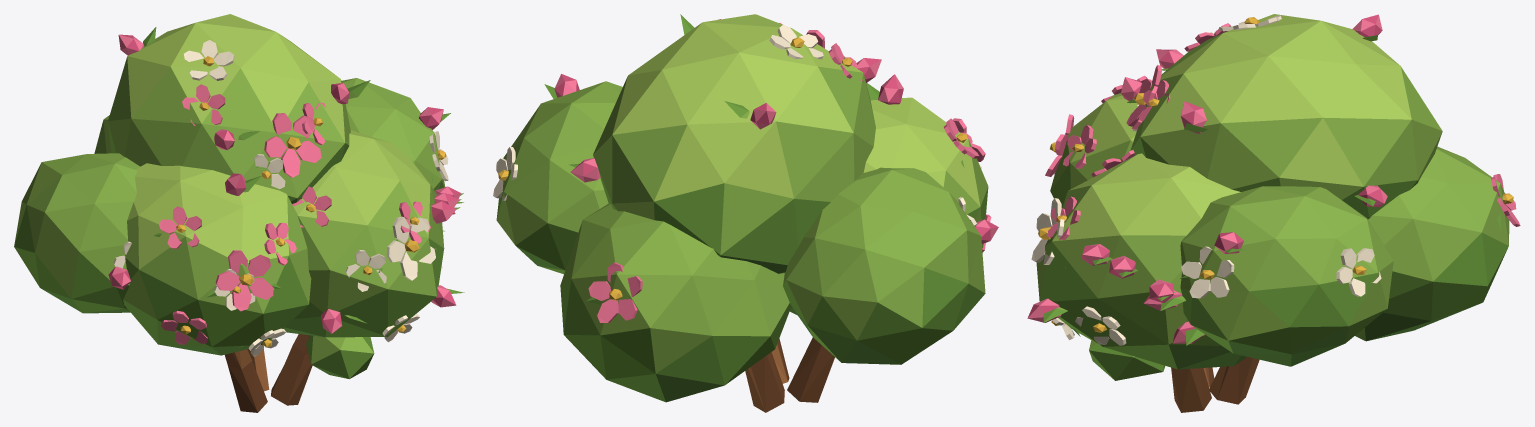
Rendered from FMS_Bush_Flowering.fbx.
3 renders of one model, left to right at view 1: azimuth 30°, elevation 25°; view 2: azimuth 150°, elevation 25°; view 3: azimuth 270°, elevation 25°, orthographic. The views are drawn at different scales.
Visible parts, largest first — view 1: FMS_Bush_Flowering; view 2: FMS_Bush_Flowering; view 3: FMS_Bush_Flowering.
Part boxes in pixels (left/top/right/bottom): FMS_Bush_Flowering: left=14, top=14, right=464, bottom=412; FMS_Bush_Flowering: left=493, top=14, right=998, bottom=412; FMS_Bush_Flowering: left=1027, top=14, right=1520, bottom=412.
Bounding box in the file's own units: 1.2 × 1 × 1.2.
